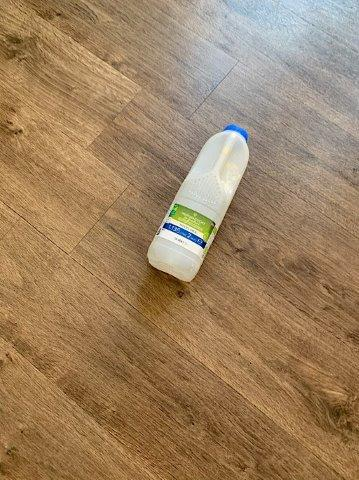botolplastik: (149, 125, 248, 281)
